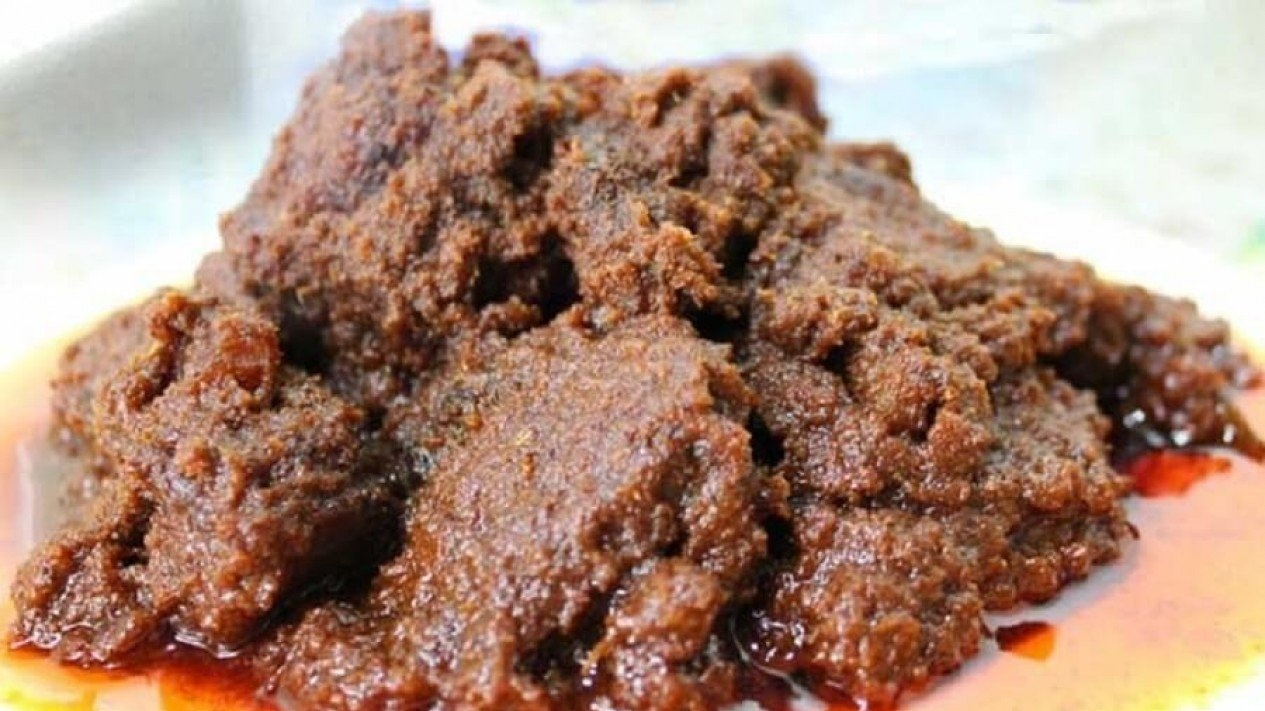rendang: (13, 7, 1231, 711)
